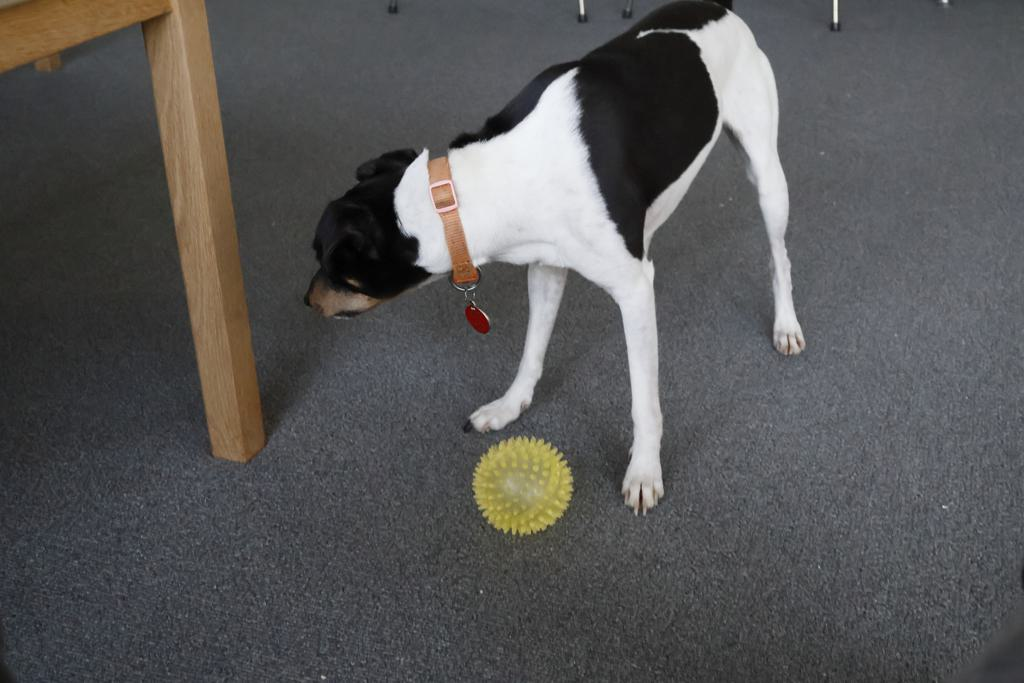Dog: (299, 0, 809, 525)
Humanoid: (881, 565, 1024, 683)
